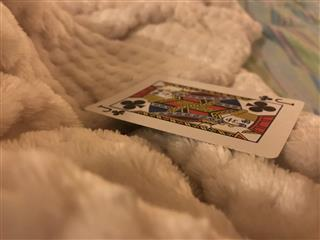JackOfClubs: (83, 74, 305, 159)
